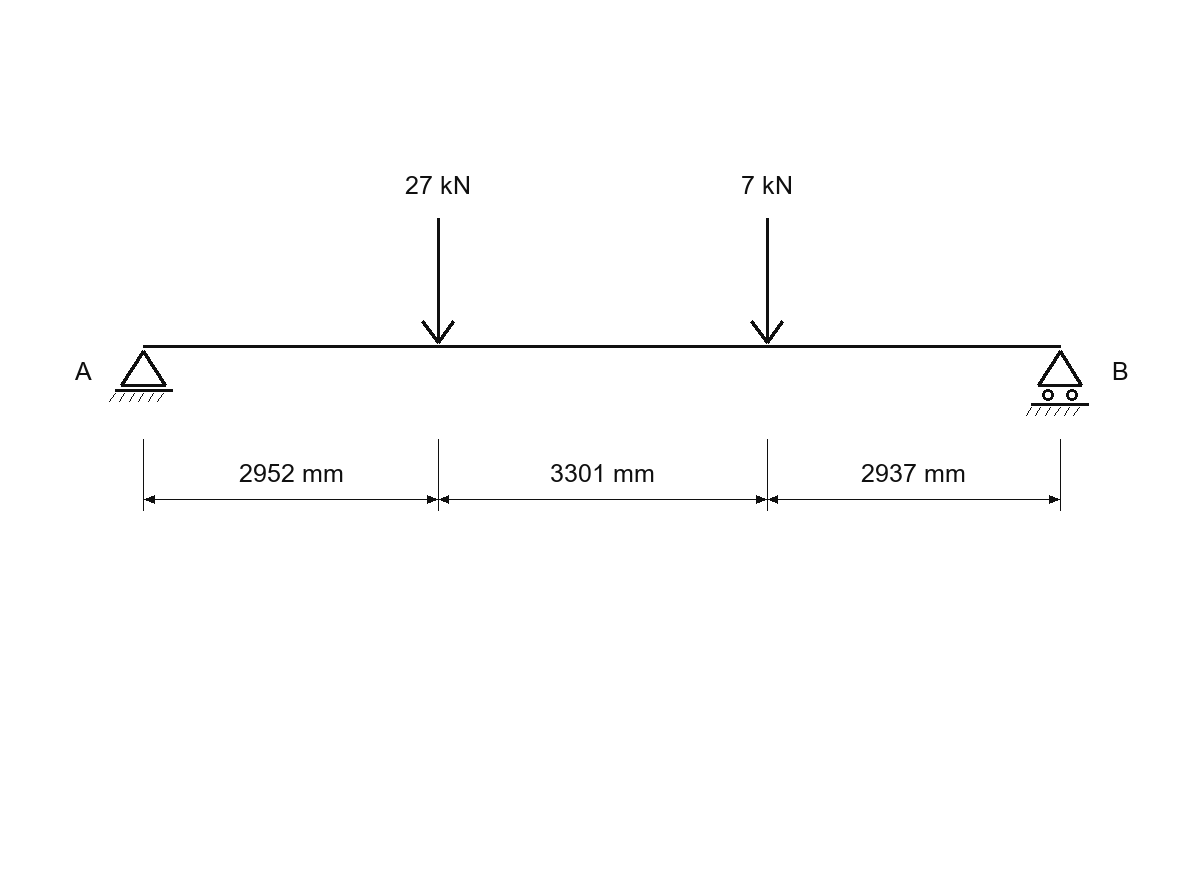pin_support: (109, 350, 173, 402)
point_load: (421, 218, 455, 344), (750, 218, 784, 344)
roller_support: (1026, 350, 1089, 416)
